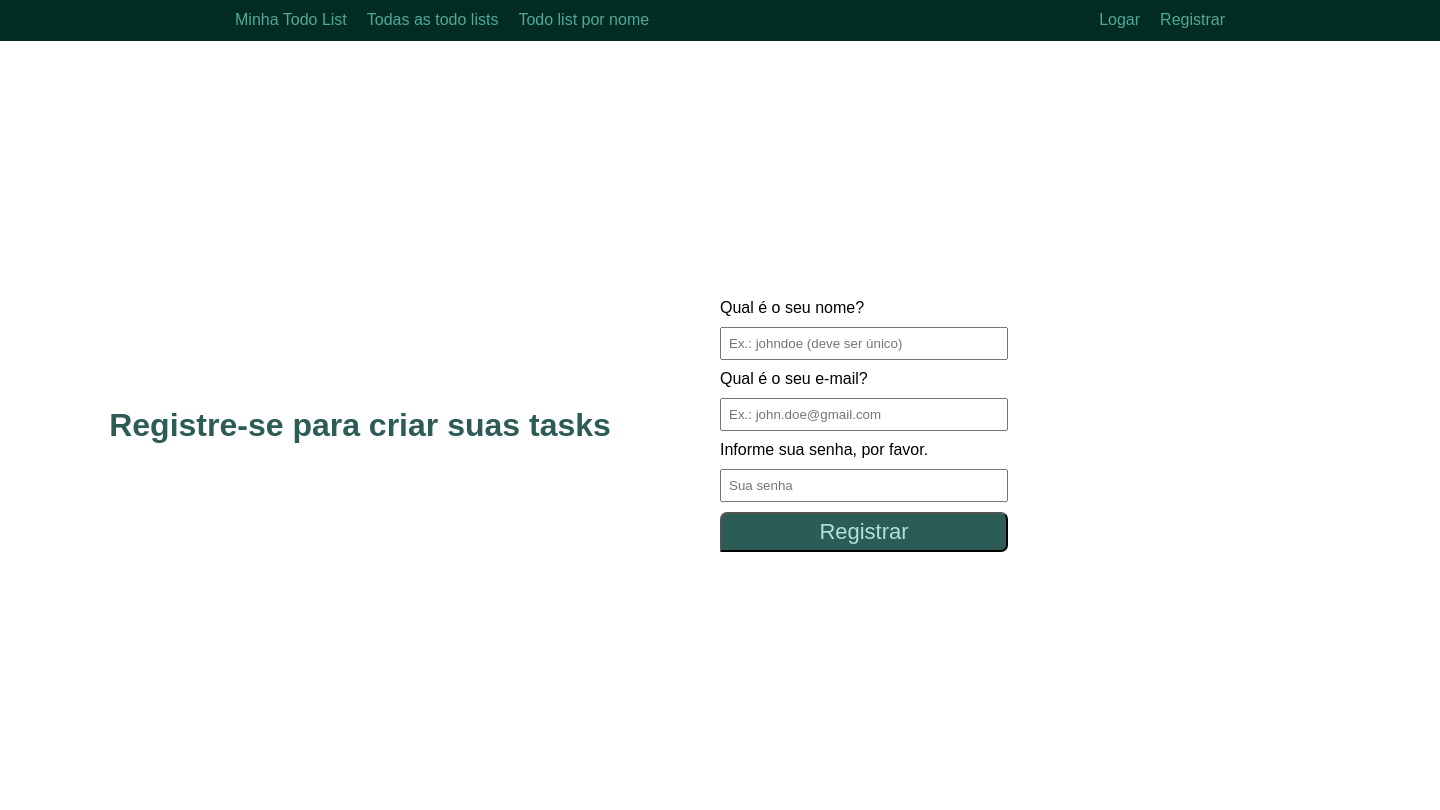
it: Page Register › Teste se entrega erro ao entregar dados inválidos
Click the button with class "submit-login" at (864, 532), box top-left (720, 512), bottom-right (1008, 552)
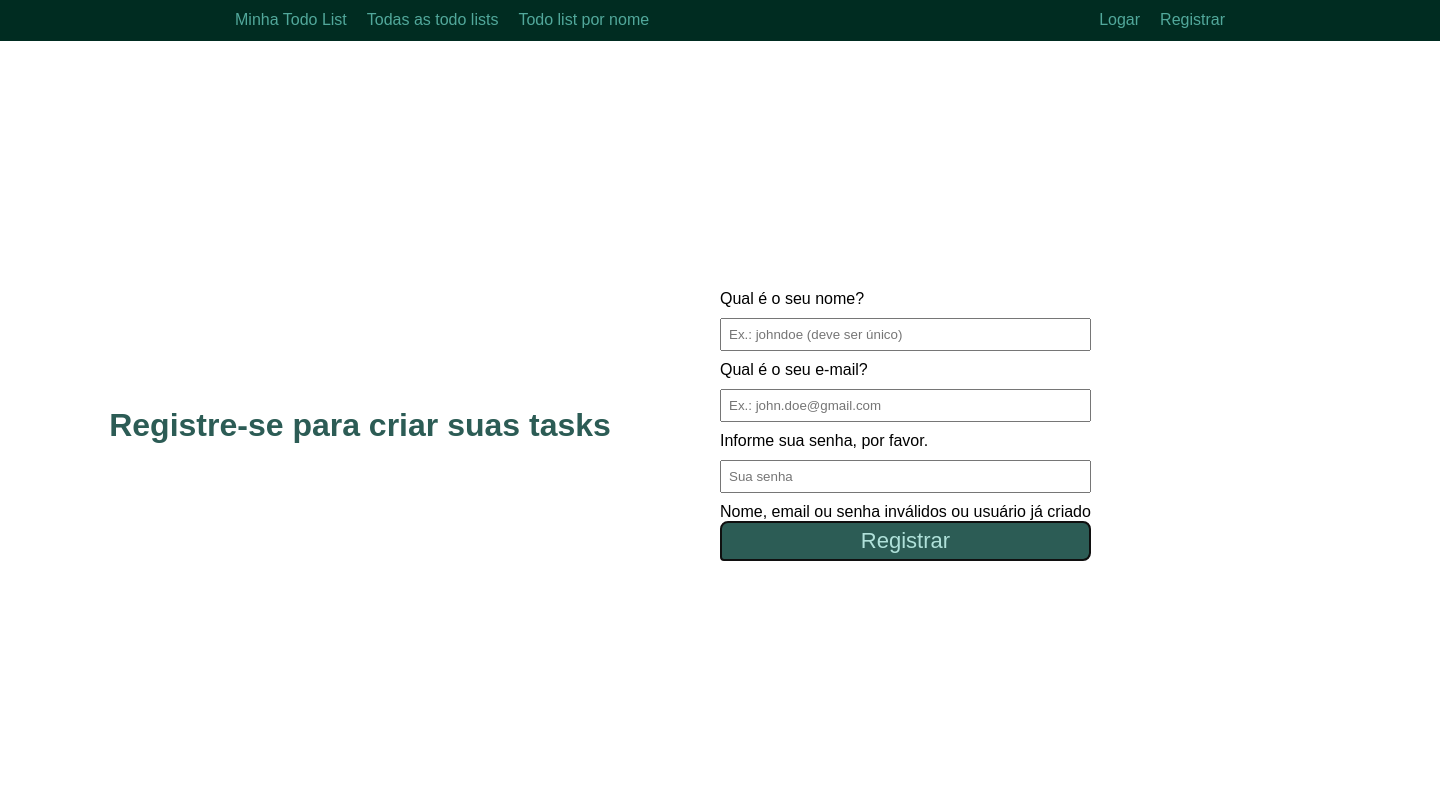
Expected: the text "Nome, email ou senha inválidos ou usuário já criado" is shown, top-left (720, 503), bottom-right (1091, 521)
